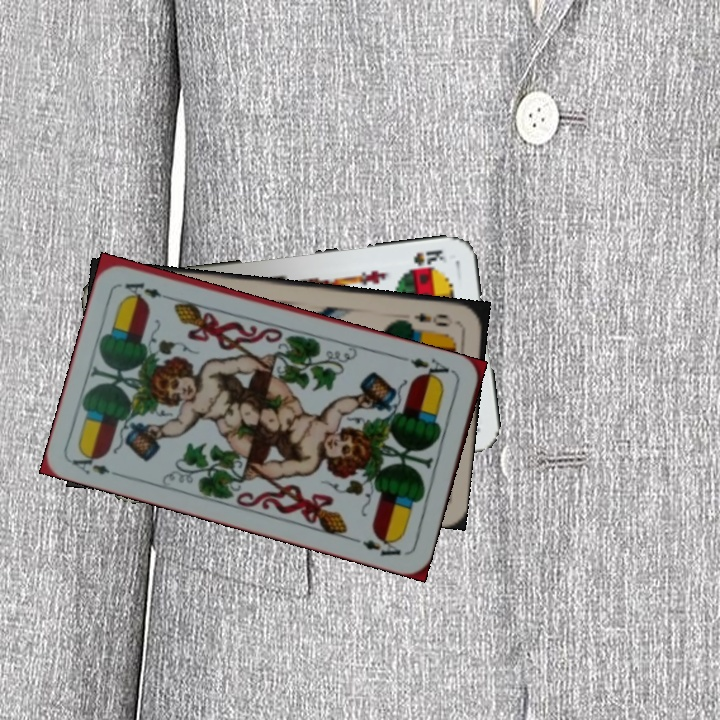EA: (68, 447, 126, 481), (405, 353, 457, 385)
EO: (409, 309, 452, 330)
SK: (409, 245, 450, 268)
